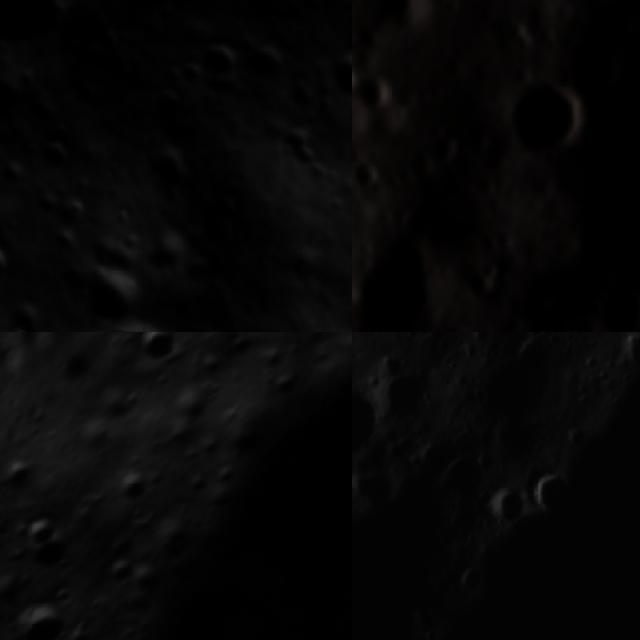crater: (488, 62, 605, 174), (352, 221, 464, 332), (0, 0, 95, 116), (414, 165, 511, 259), (71, 255, 153, 332), (232, 29, 301, 95), (308, 33, 352, 122), (0, 591, 76, 640), (19, 527, 80, 588), (183, 30, 245, 90), (4, 501, 66, 561), (587, 275, 640, 332), (107, 463, 160, 515), (526, 465, 577, 519), (352, 375, 385, 457), (352, 63, 402, 117), (123, 332, 183, 377), (33, 128, 80, 185), (477, 491, 528, 531), (0, 456, 41, 505), (421, 126, 466, 170), (107, 307, 176, 332), (172, 55, 213, 95), (374, 0, 425, 28), (61, 356, 96, 394), (404, 146, 440, 182), (352, 152, 385, 189), (476, 253, 508, 285), (0, 236, 20, 284), (619, 332, 640, 376), (0, 313, 43, 332), (0, 438, 20, 469), (352, 54, 364, 101), (413, 332, 444, 347), (352, 189, 362, 235), (93, 332, 120, 349)
